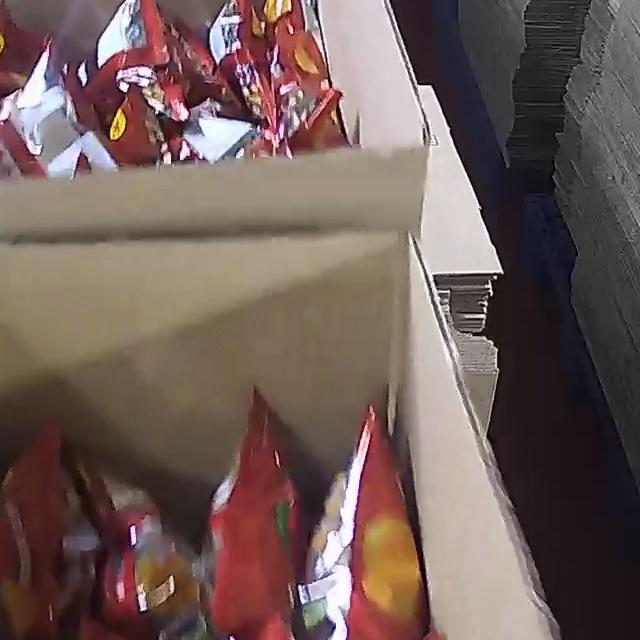masala: (0, 385, 455, 640), (0, 0, 354, 188)
